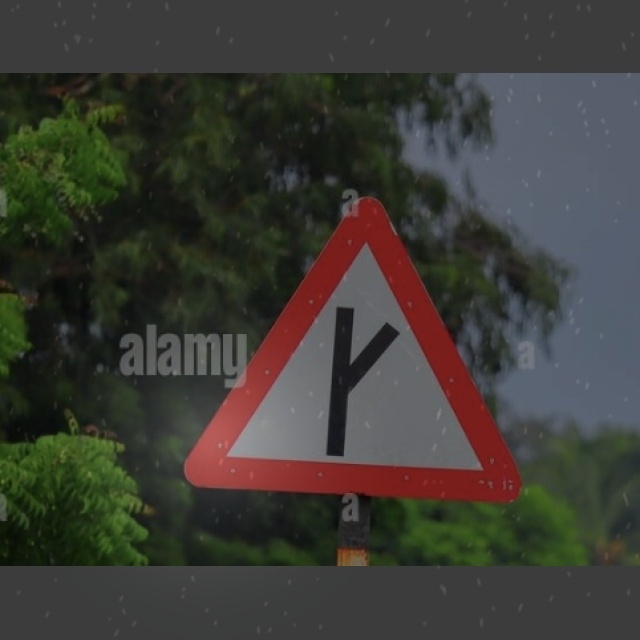Y_Intersection: (188, 204, 518, 498)
